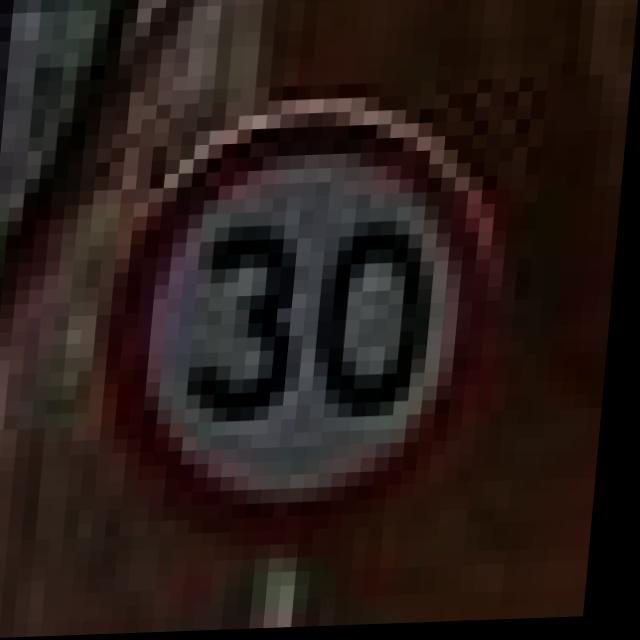SPEED_LIMIT_30: (111, 95, 516, 533)
